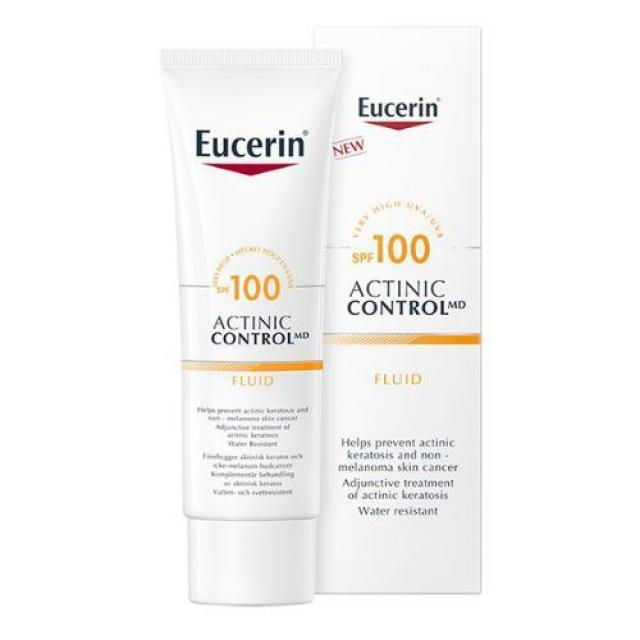cosmotic: (320, 46, 474, 578), (168, 58, 318, 596)
